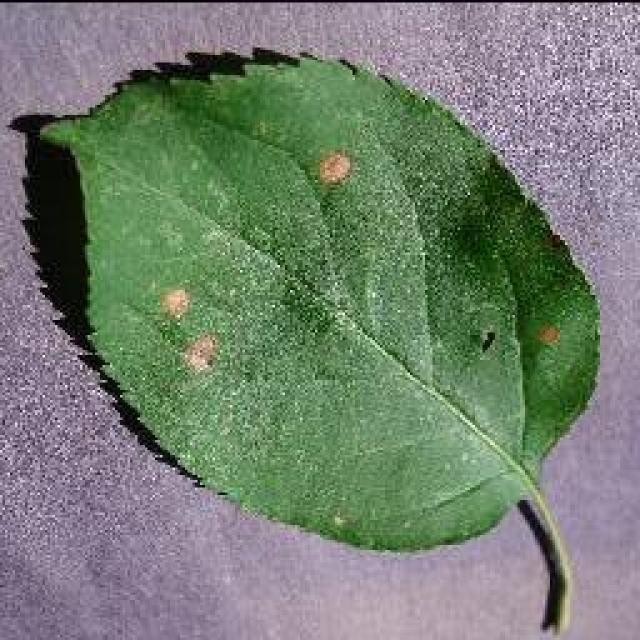apple black rot: (10, 43, 602, 635)
